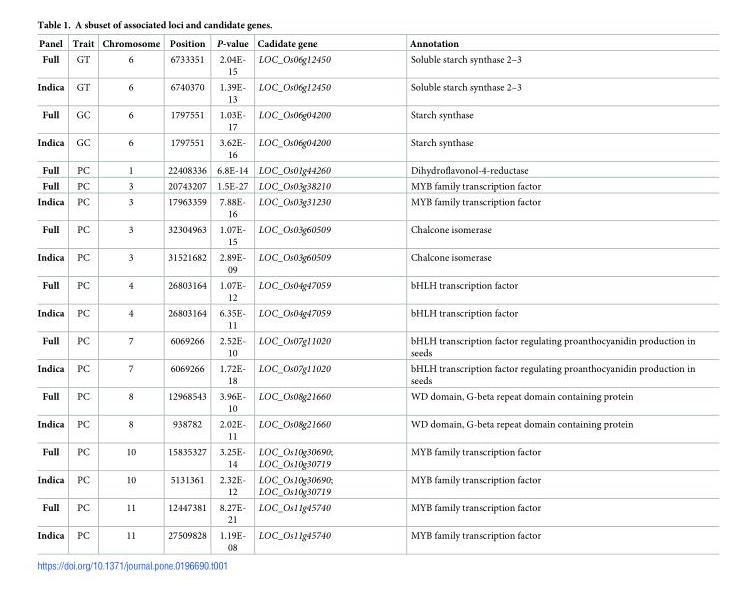table: (36, 36, 694, 552)
table column: (370, 36, 694, 552), (252, 36, 370, 552), (97, 36, 163, 552), (163, 36, 210, 552), (210, 36, 252, 552), (36, 36, 67, 552), (67, 36, 97, 552)
table column header: (36, 36, 694, 50)
table row: (36, 50, 694, 78), (36, 105, 694, 133), (36, 133, 694, 161), (36, 220, 694, 248), (36, 248, 694, 276), (36, 276, 694, 304), (36, 331, 694, 359), (36, 359, 694, 387), (36, 387, 694, 415), (36, 415, 694, 443), (36, 443, 694, 471), (36, 471, 694, 499), (36, 78, 694, 105), (36, 193, 694, 220), (36, 304, 694, 331), (36, 499, 694, 526), (36, 526, 694, 552), (36, 161, 694, 177), (36, 177, 694, 193), (36, 36, 694, 50)
